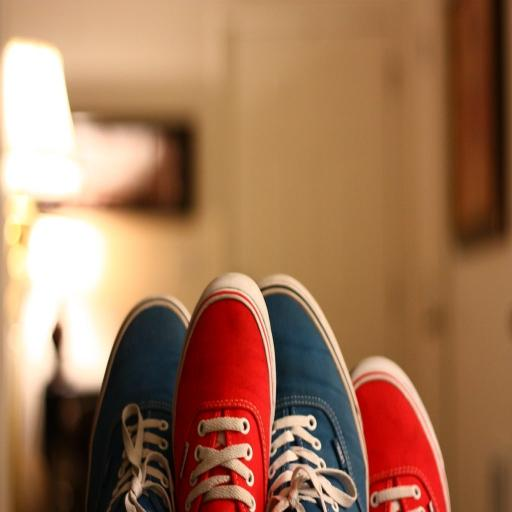shoe: (260, 274, 368, 512), (173, 273, 275, 512), (86, 297, 190, 512), (352, 356, 450, 512)
